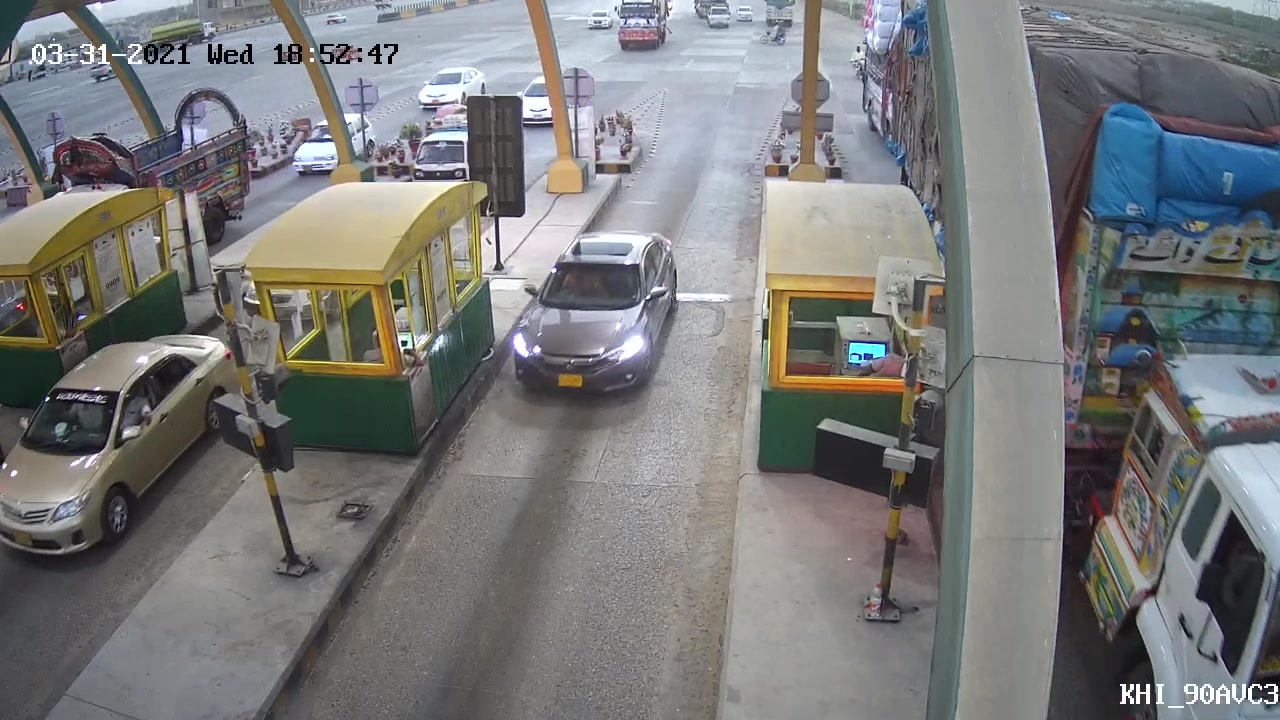F1: (504, 222, 684, 401)
